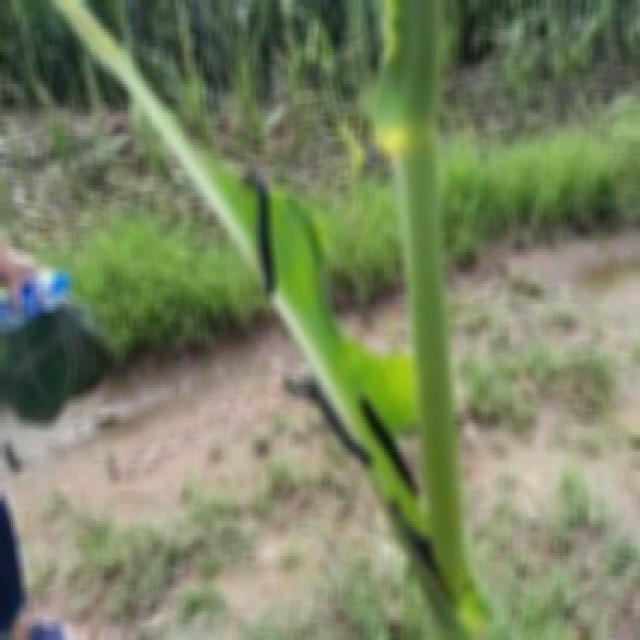army worm: (382, 489, 453, 608), (355, 388, 424, 501), (301, 370, 375, 466), (240, 169, 283, 308)
